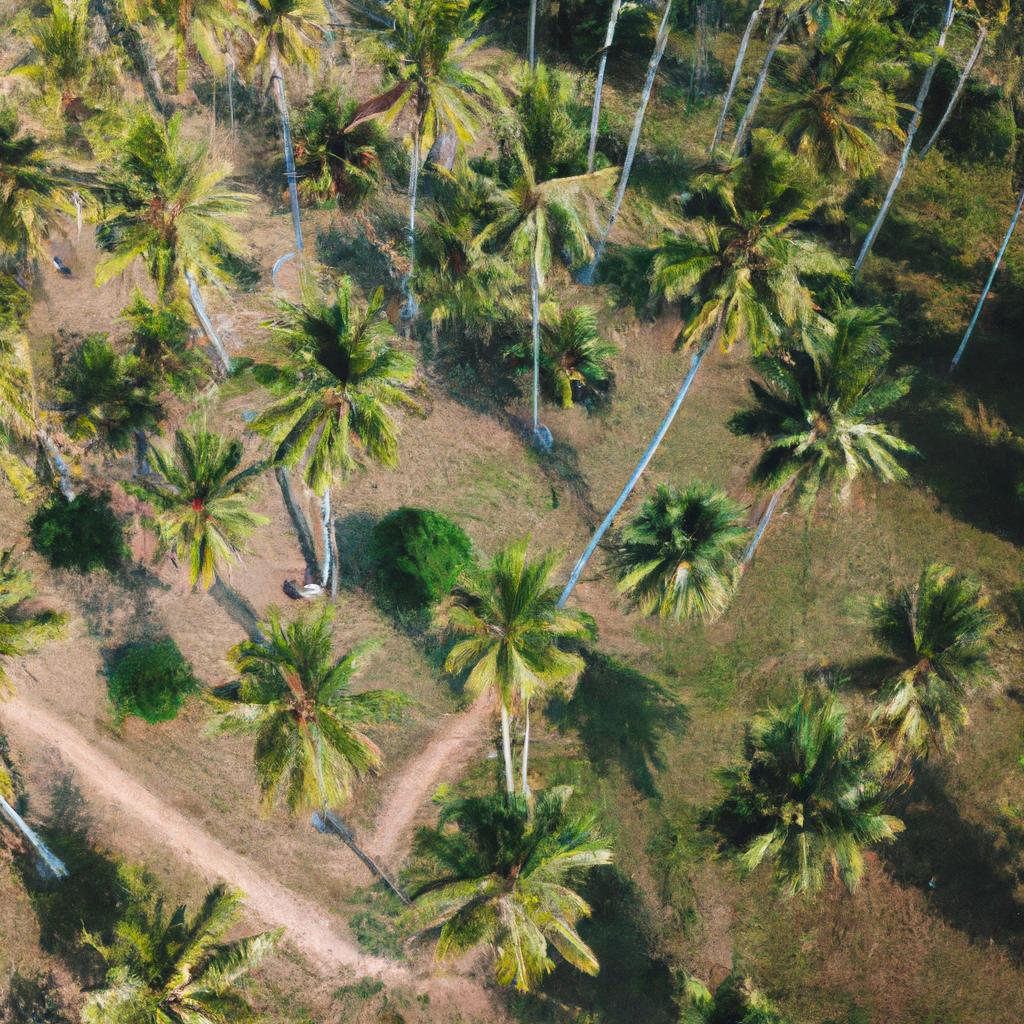coconut_tree: (419, 762, 616, 986), (635, 148, 859, 345), (256, 278, 443, 501), (218, 615, 399, 834), (86, 104, 269, 318), (761, 308, 940, 524), (716, 678, 887, 899), (418, 532, 604, 729), (856, 541, 1023, 746), (616, 453, 762, 626), (127, 419, 270, 592)
